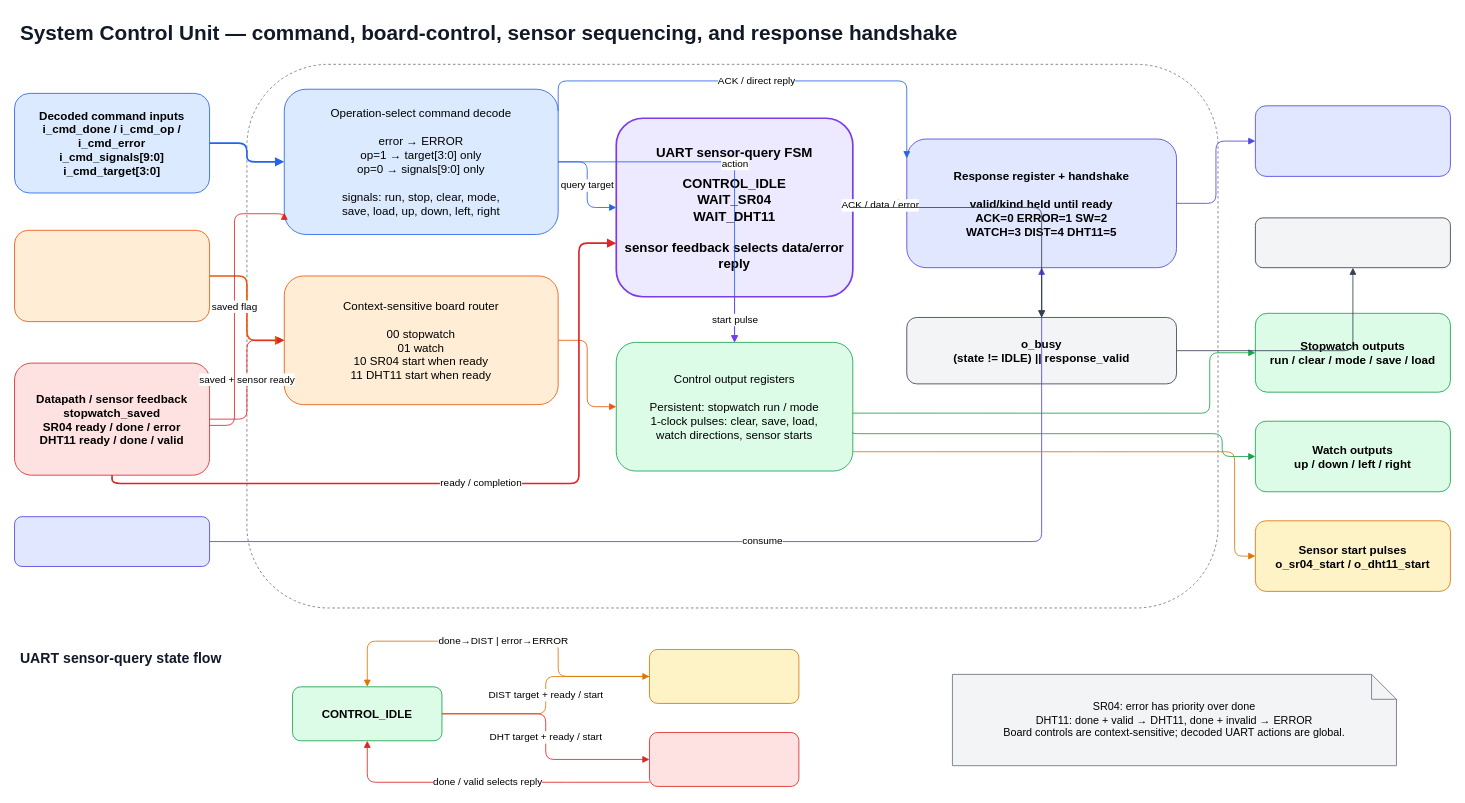
Image size: 1465x803. Some labels were removed from this diagram. The box of each missing label's shape, as (x1, y1, x2, y2) in pixels:
Board control inputs i_mode_select[1:0] left / right / up / down: (14, 229, 210, 322)
control_unit.v : system_control_unit: (246, 63, 1218, 608)
i_response_ready: (14, 516, 210, 566)
o_busy: (1255, 217, 1450, 268)
Response outputs o_response_valid / kind[2:0]: (1255, 105, 1450, 176)
WAIT_DHT11: (649, 732, 799, 786)
WAIT_SR04: (649, 649, 799, 703)
